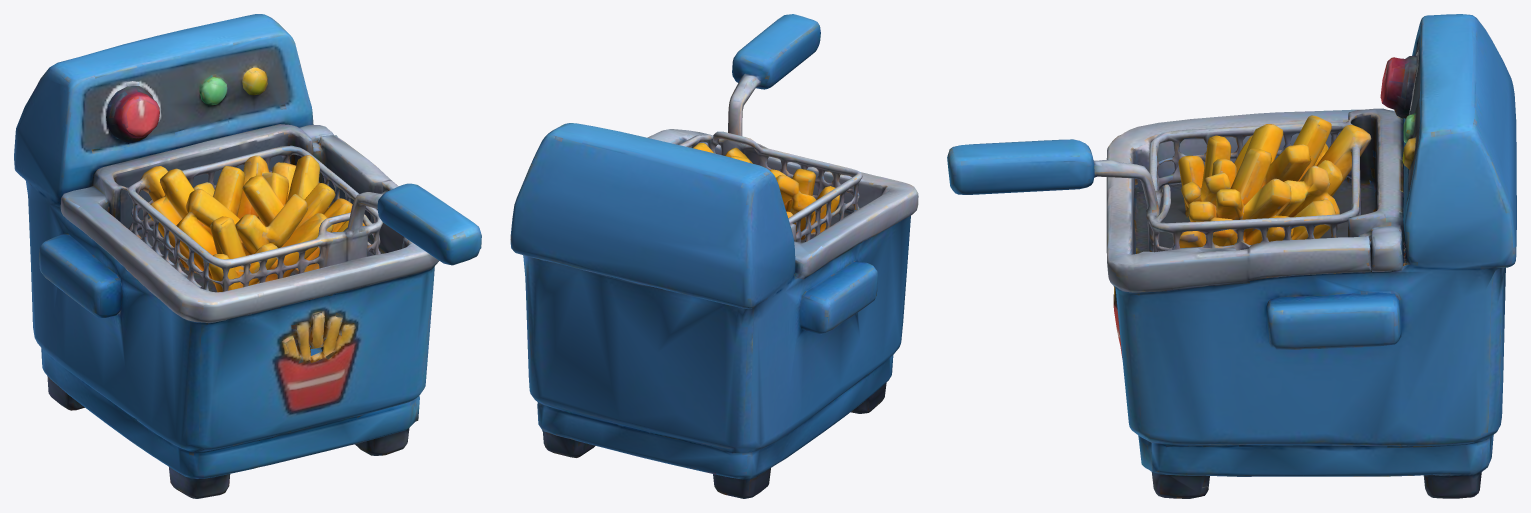
File: fryer.glb
The picture shows the model from 3 angles, left to right: view 1: azimuth 30°, elevation 25°; view 2: azimuth 150°, elevation 25°; view 3: azimuth 270°, elevation 25°; orthographic projection. The views are drawn at different scales.
Visible parts, largest first — view 1: fryer; view 2: fryer; view 3: fryer.
Part boxes in pixels (bbox=[...]): fryer: bbox=[14, 14, 481, 498]; fryer: bbox=[510, 14, 918, 498]; fryer: bbox=[947, 14, 1516, 498].
Bounding box in the file's own units: 0.6933 × 0.7235 × 0.9988.
Materials: 1 (1 with a texture image).
